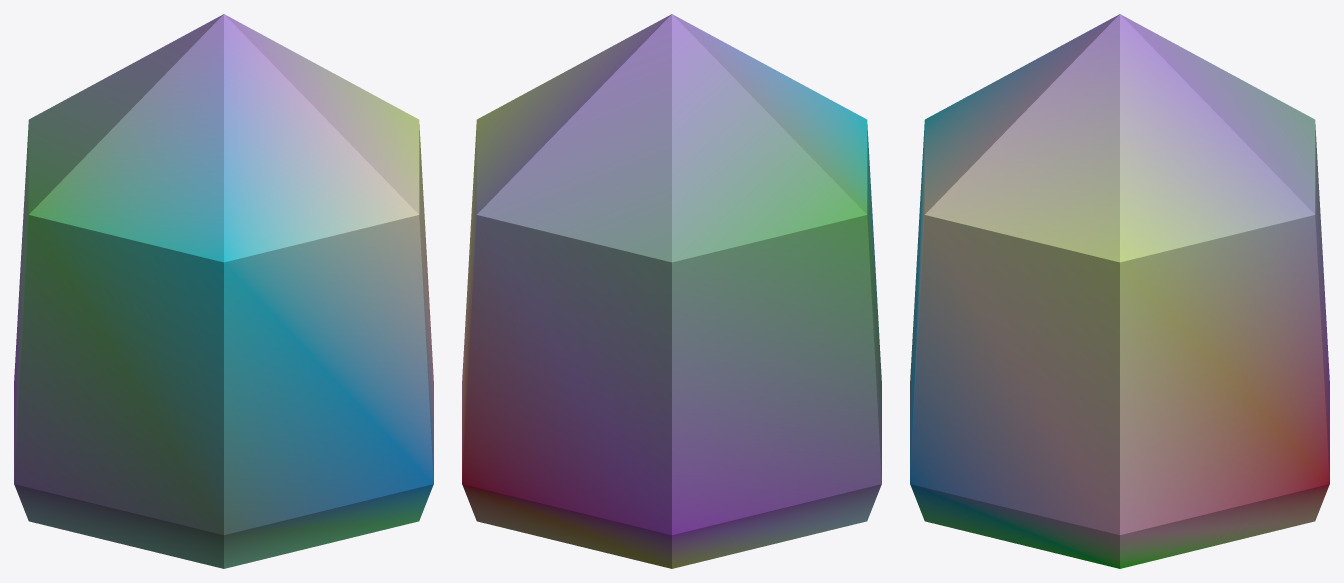
Rendered from stage4p_color0_geometry.glb.
3 renders of one model, left to right at view 1: azimuth 30°, elevation 25°; view 2: azimuth 150°, elevation 25°; view 3: azimuth 270°, elevation 25°, orthographic.
Visible parts, largest first — view 1: bootstrap_geometry; view 2: bootstrap_geometry; view 3: bootstrap_geometry.
Part boxes in pixels (bbox=[...]): bootstrap_geometry: bbox=[14, 14, 433, 568]; bootstrap_geometry: bbox=[462, 14, 881, 568]; bootstrap_geometry: bbox=[910, 14, 1329, 568].
Size of the model in its own units: 4.3 by 4.5 by 3.72.
